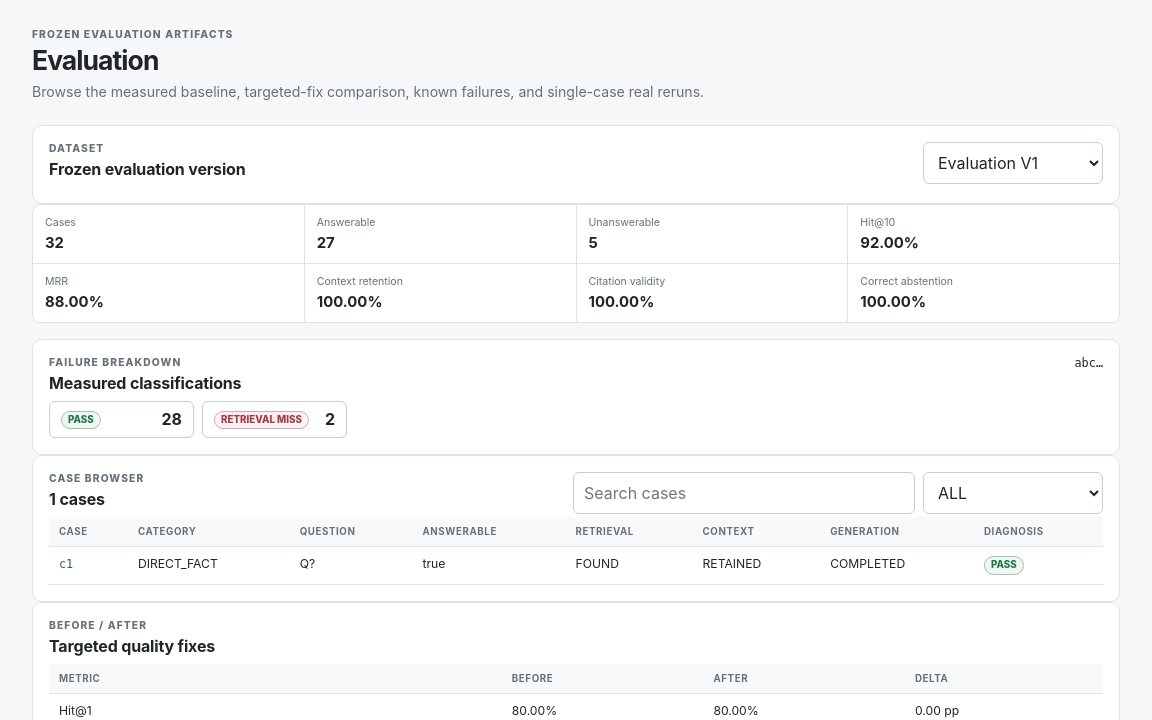
Test case: EvaluationPage › opens a structured case inspector
Click the button "c1": (66, 565) x1=59 y1=558 x2=73 y2=572
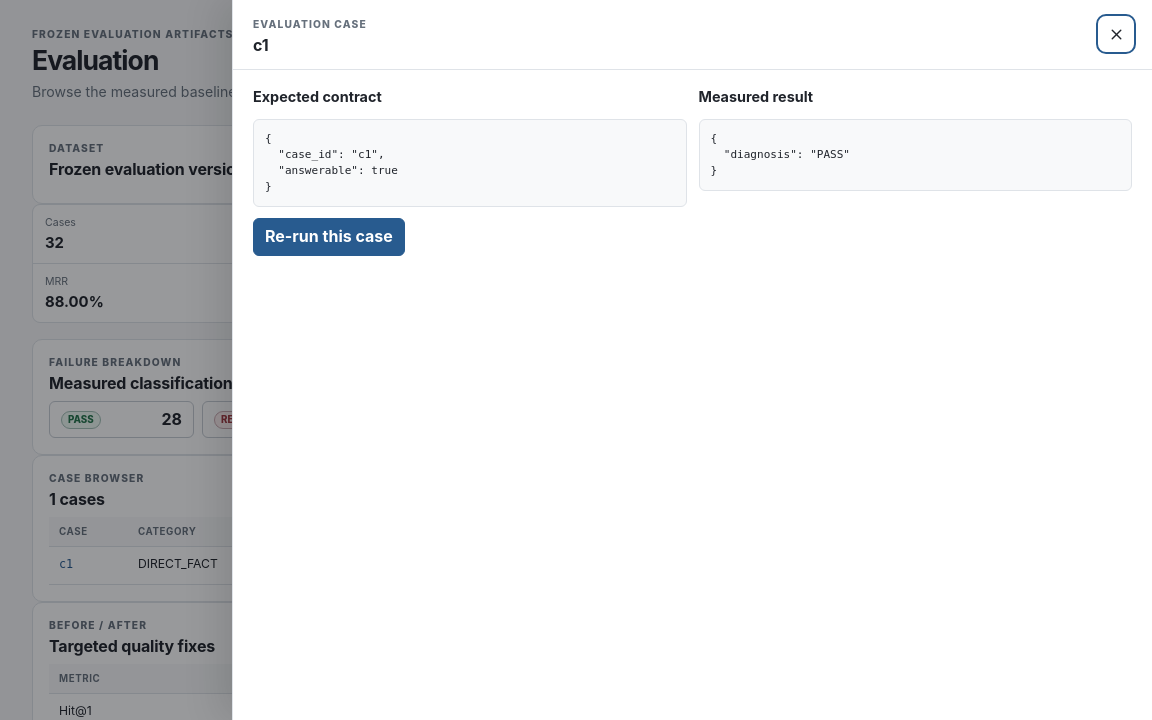
Result: the dialog "c1" is shown
Result: the heading "Expected contract" is shown at x1=253 y1=88 x2=382 y2=105
